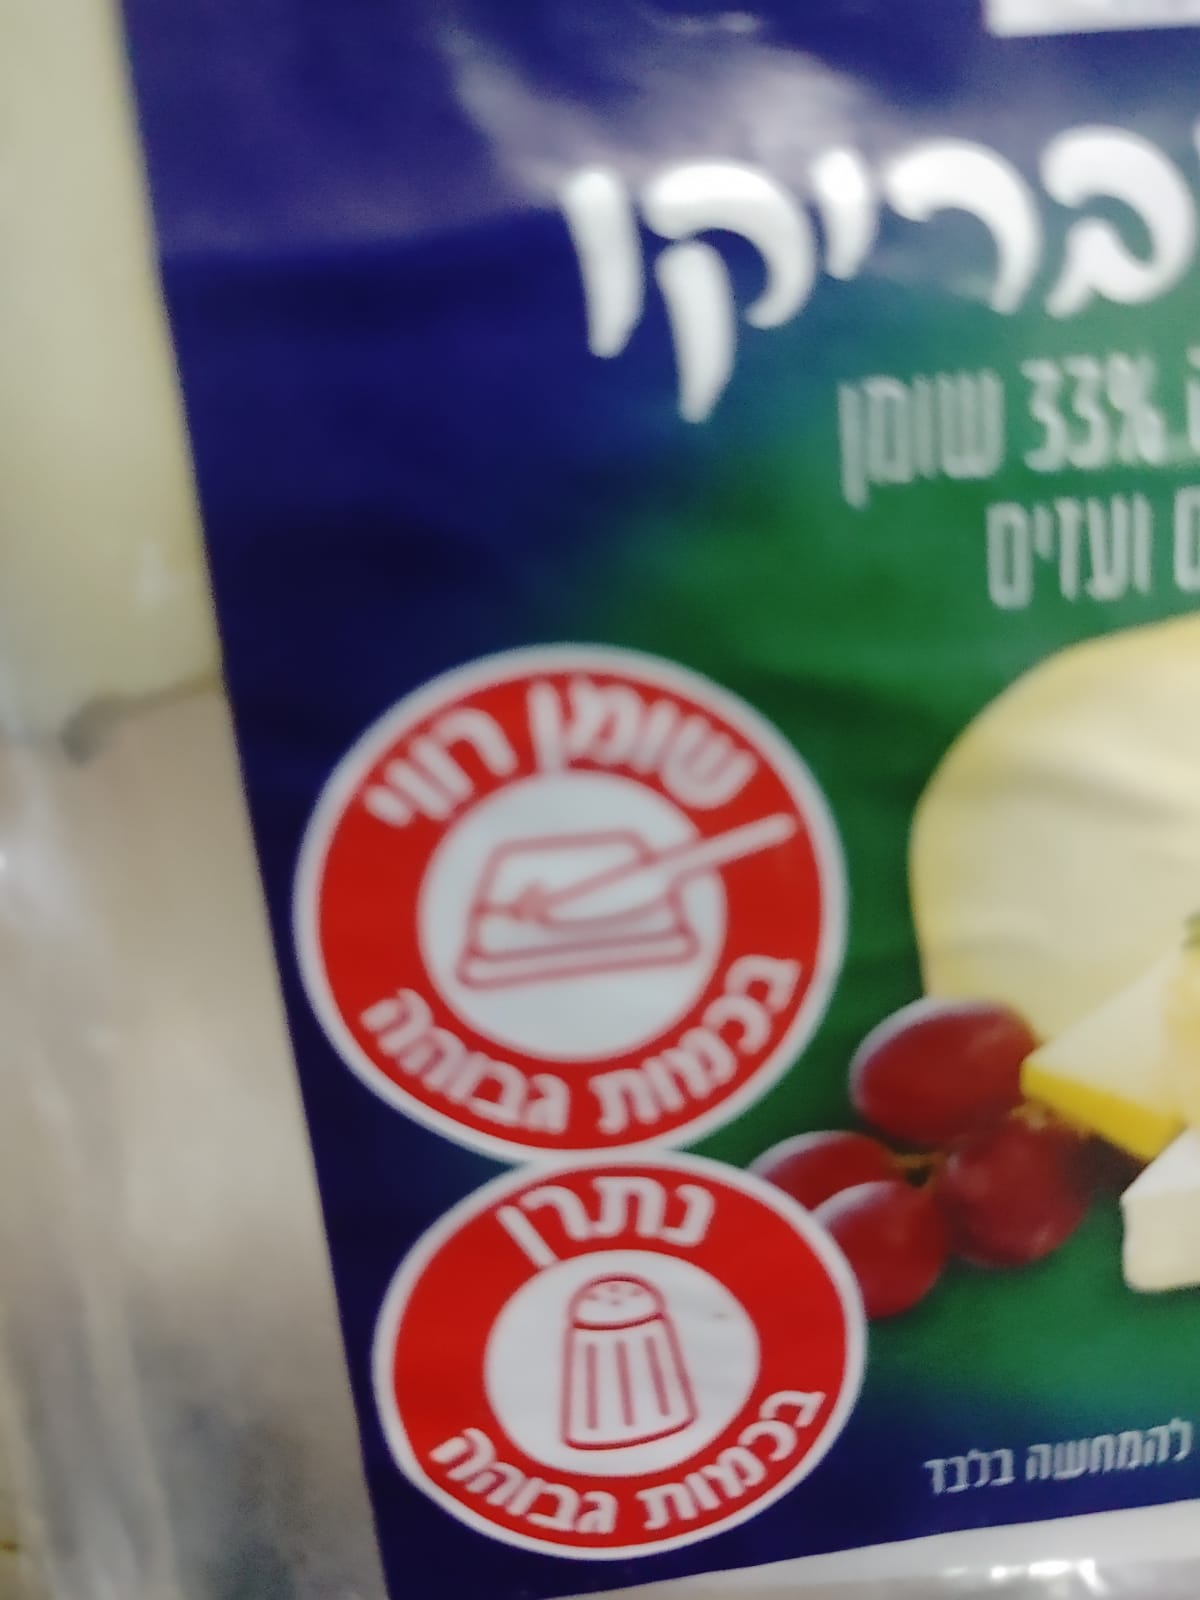fat: (289, 635, 845, 1173)
salt: (364, 1155, 877, 1566)
